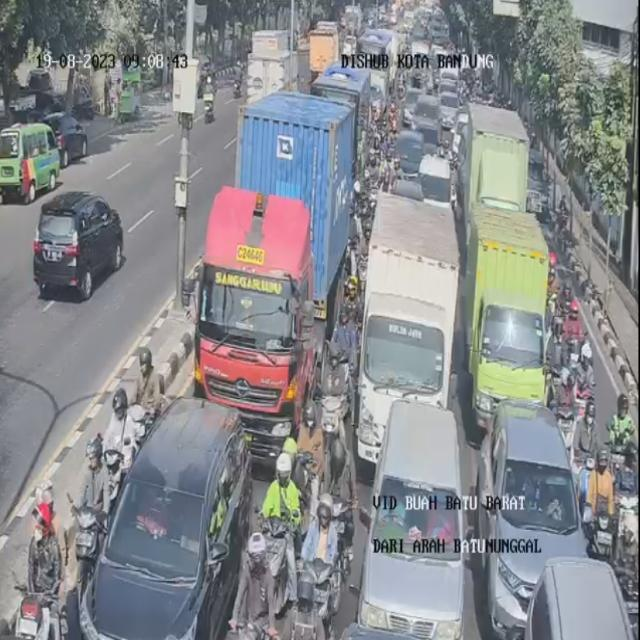bus: (315, 62, 370, 154), (365, 26, 389, 92)
cars: (85, 397, 249, 640), (476, 393, 588, 630), (354, 400, 462, 636), (515, 549, 632, 640), (421, 147, 448, 217), (396, 125, 424, 178), (406, 123, 442, 156), (413, 94, 438, 134), (401, 83, 425, 124), (394, 172, 421, 204), (436, 93, 460, 129)
motorcycle: (4, 490, 68, 637), (215, 526, 275, 636), (302, 501, 354, 617), (263, 451, 299, 617), (98, 388, 136, 512), (603, 459, 640, 578), (78, 426, 104, 590), (588, 446, 622, 549), (276, 563, 314, 640), (566, 336, 597, 426), (606, 386, 640, 468), (132, 343, 167, 422), (328, 433, 351, 543), (552, 360, 578, 449), (322, 335, 344, 435), (299, 396, 321, 490), (334, 298, 354, 373), (561, 286, 582, 354), (341, 257, 362, 323), (540, 306, 560, 372), (546, 247, 562, 302), (360, 190, 372, 236), (372, 158, 380, 217), (371, 135, 383, 172), (384, 120, 396, 154), (372, 138, 384, 167)
truck: (188, 91, 360, 464), (364, 184, 456, 479), (460, 194, 542, 443), (463, 98, 530, 258)
